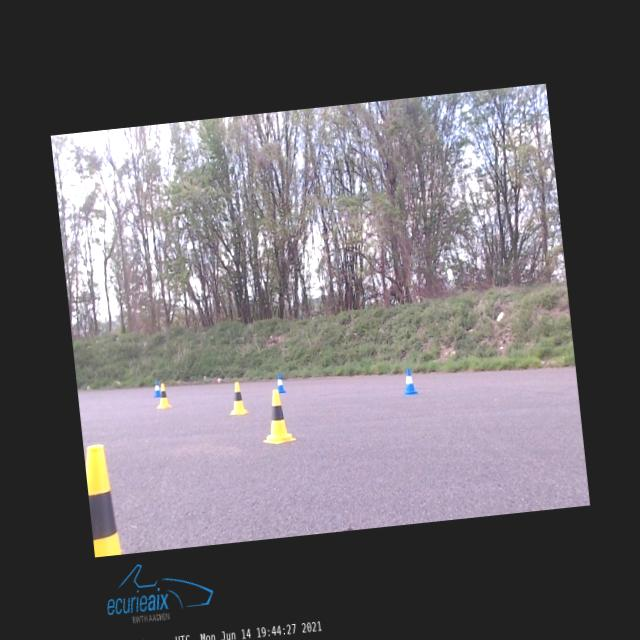blue_cone: (402, 368, 417, 394), (276, 372, 286, 392), (152, 381, 160, 396)
yellow_cone: (83, 444, 121, 556), (258, 388, 296, 444), (226, 382, 248, 414), (156, 382, 170, 408)
